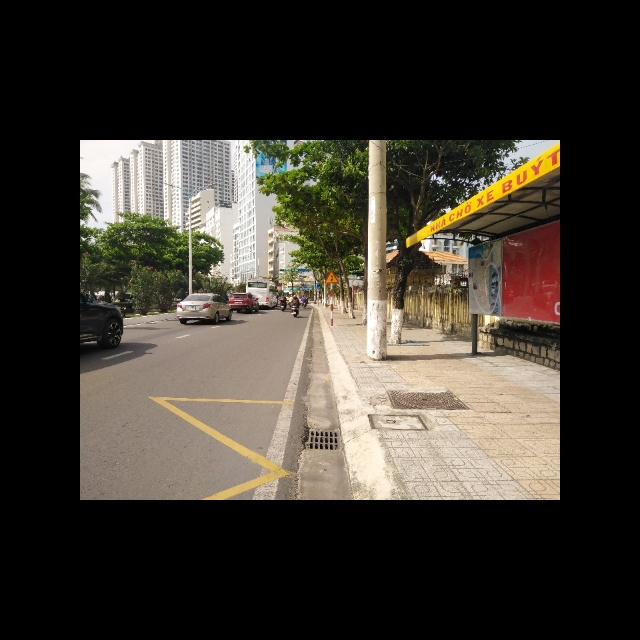Giao nhau có tín hiệu đèn: (324, 269, 340, 284)
